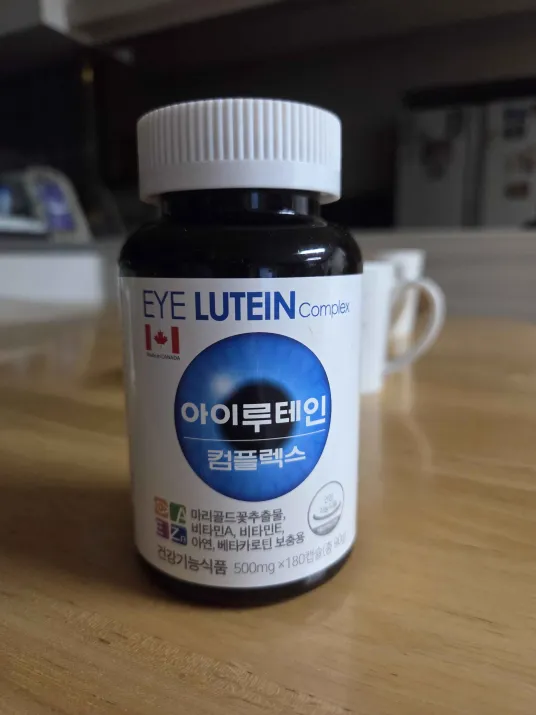supplement_label: (120, 268, 369, 592)
